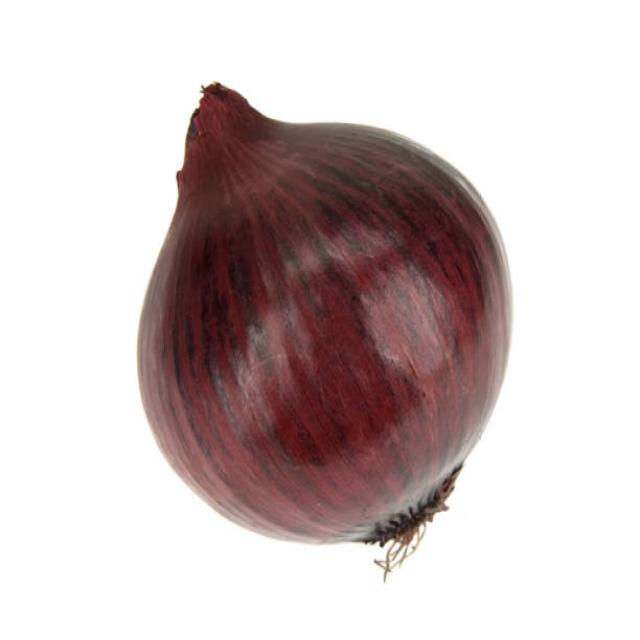onion: (134, 107, 515, 550)
